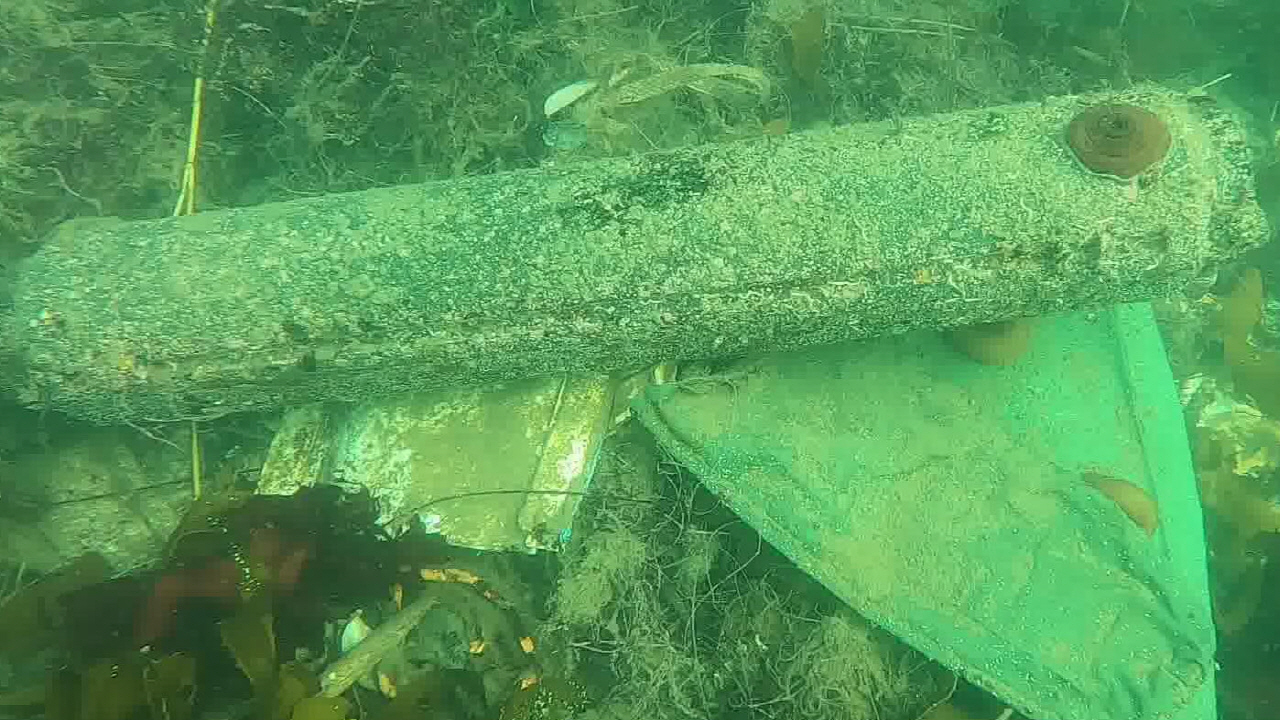eel fish trap: (0, 83, 1272, 431)
